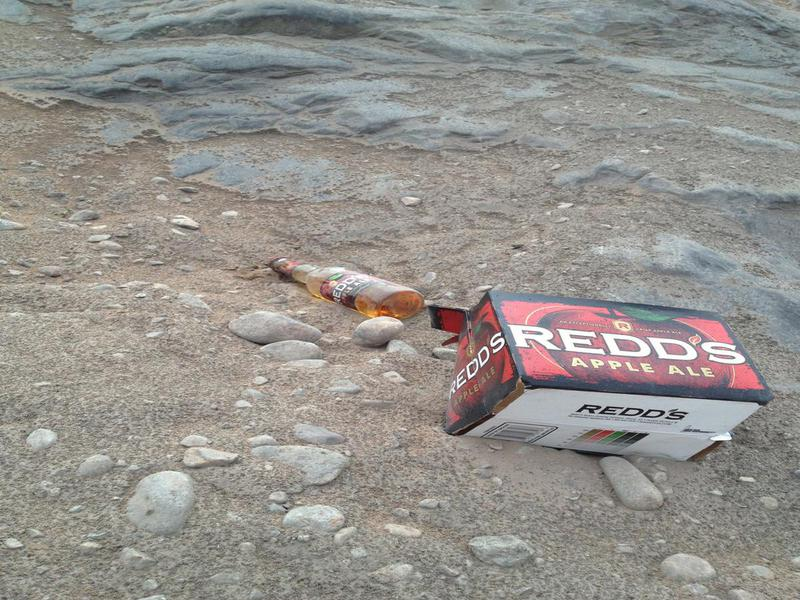bottle: (266, 250, 428, 324)
cardboard: (427, 280, 781, 465)
